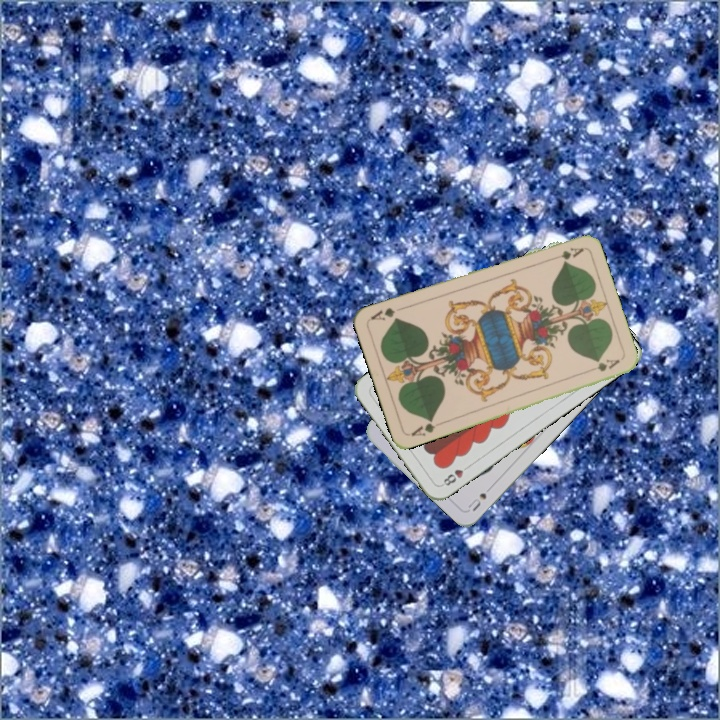GA: (407, 415, 445, 439), (546, 243, 586, 263)
H8: (437, 461, 473, 489)
SU: (464, 489, 489, 514)
